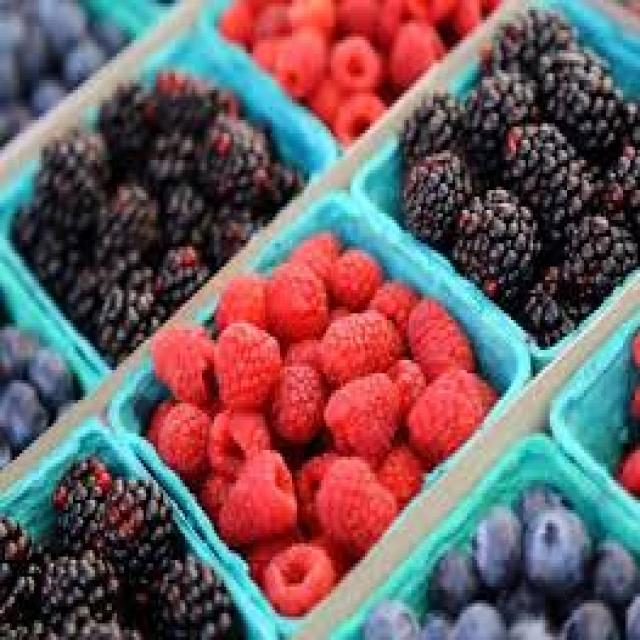biodegradable: (538, 50, 635, 160), (499, 117, 594, 227), (448, 187, 540, 293), (90, 470, 170, 590), (460, 70, 538, 180), (404, 363, 492, 457), (212, 447, 292, 543), (314, 453, 394, 547), (146, 550, 231, 637), (190, 103, 268, 197), (246, 520, 343, 593), (32, 123, 107, 217), (516, 500, 586, 600), (324, 370, 399, 463), (553, 214, 638, 294), (90, 177, 156, 280), (397, 147, 467, 240), (482, 3, 577, 70), (32, 544, 119, 614), (58, 254, 134, 334), (49, 457, 112, 550), (212, 317, 277, 403), (407, 290, 475, 370), (27, 217, 95, 297), (97, 280, 161, 363), (149, 320, 214, 400), (212, 153, 302, 210), (263, 257, 326, 337), (518, 260, 582, 337), (204, 403, 268, 480), (0, 513, 39, 637), (134, 63, 209, 127), (39, 593, 148, 637), (397, 87, 465, 157), (266, 540, 334, 610), (263, 363, 324, 440), (382, 10, 448, 80), (187, 200, 258, 263), (470, 500, 518, 590), (292, 447, 343, 530), (572, 527, 637, 590), (596, 130, 638, 227), (324, 240, 382, 310), (151, 403, 204, 477), (317, 310, 368, 380), (373, 433, 424, 500), (0, 373, 46, 447), (496, 577, 560, 630), (326, 33, 385, 90), (149, 244, 205, 304), (154, 180, 210, 240), (141, 127, 200, 183), (368, 277, 419, 340), (275, 34, 328, 94), (280, 337, 348, 383), (426, 543, 474, 607), (56, 30, 117, 80), (378, 353, 424, 417), (24, 344, 73, 404), (287, 223, 338, 280), (328, 93, 387, 140), (31, 0, 95, 43), (217, 270, 265, 327), (555, 590, 613, 637), (0, 316, 41, 376), (363, 597, 419, 637), (12, 20, 51, 77), (445, 600, 504, 637), (365, 313, 404, 367), (10, 200, 44, 260), (141, 390, 180, 437), (90, 7, 139, 43), (334, 0, 378, 37), (372, 0, 404, 50), (448, 0, 501, 30), (192, 470, 231, 510), (251, 0, 292, 37), (214, 0, 251, 40), (285, 0, 333, 30), (302, 74, 338, 114), (0, 30, 22, 93), (613, 437, 638, 490), (0, 97, 32, 137), (246, 33, 277, 70), (399, 0, 455, 20), (19, 77, 61, 103), (618, 587, 638, 637), (419, 610, 455, 637), (204, 83, 236, 110), (0, 0, 32, 27), (623, 380, 638, 437), (46, 393, 73, 420), (626, 327, 638, 370), (0, 430, 12, 463), (324, 300, 348, 313)
